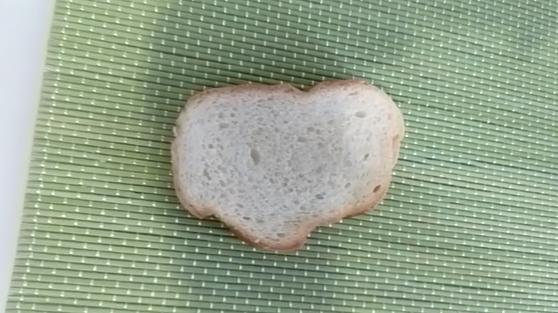white_bread: (177, 77, 410, 244)
